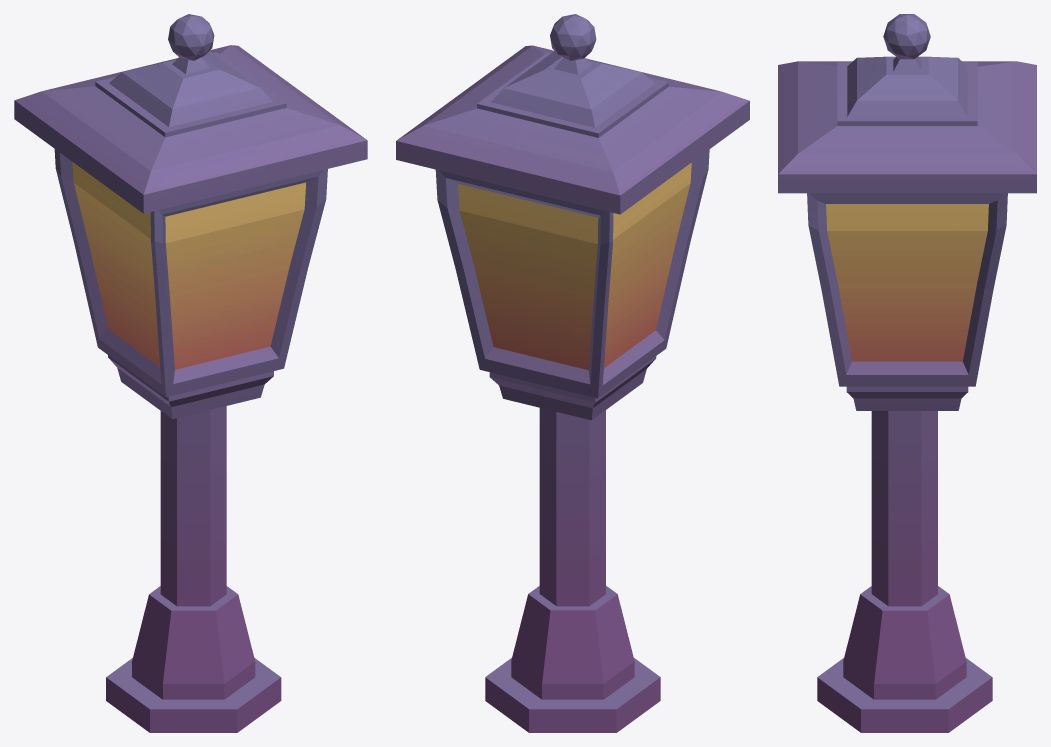
The model's file is lantern004.obj.
3 renders of one model, left to right at view 1: azimuth 30°, elevation 25°; view 2: azimuth 150°, elevation 25°; view 3: azimuth 270°, elevation 25°, orthographic.
Visible parts, largest first — view 1: Lantern.004; view 2: Lantern.004; view 3: Lantern.004.
Boxes of the visible parts, left/top/right/bottom form: Lantern.004: left=14, top=14, right=367, bottom=732; Lantern.004: left=396, top=14, right=749, bottom=732; Lantern.004: left=778, top=14, right=1036, bottom=732.
Bounding box in the file's own units: 1.42 × 4.16 × 1.42.
1 material, 1 textured.
